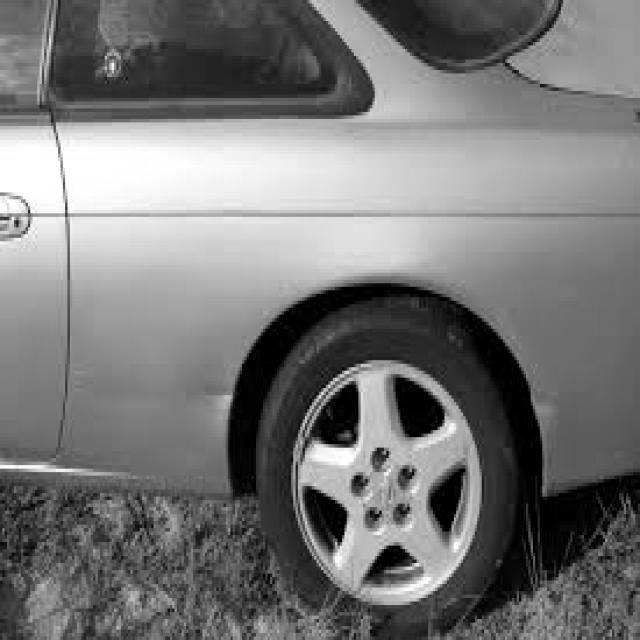quaterpanel-dent: (318, 217, 595, 504)
